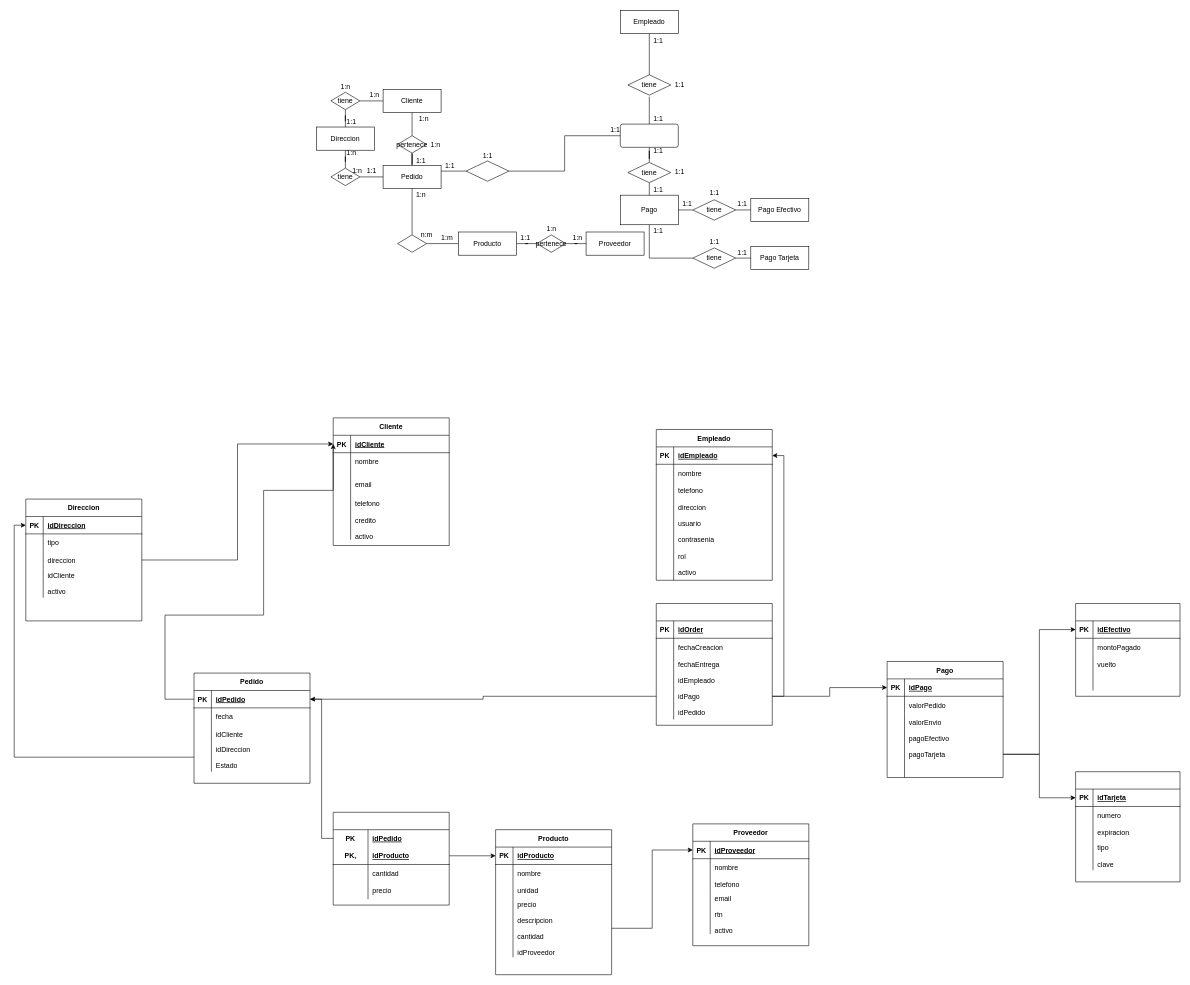
The diagram is 1190 pixels wide and 985 high, and some of its shapes have lost their labels. Here are the shapes that lost their labels. From the top down, the box of each, then its label:
(620, 124, 678, 147): Orden de entrega
(465, 160, 509, 181): genera
(397, 234, 427, 252): contiene
(656, 603, 772, 725): orden
(1075, 603, 1180, 696): pagoEfectivo
(1075, 771, 1180, 882): pagoTarjeta
(333, 812, 449, 905): listaPedido
